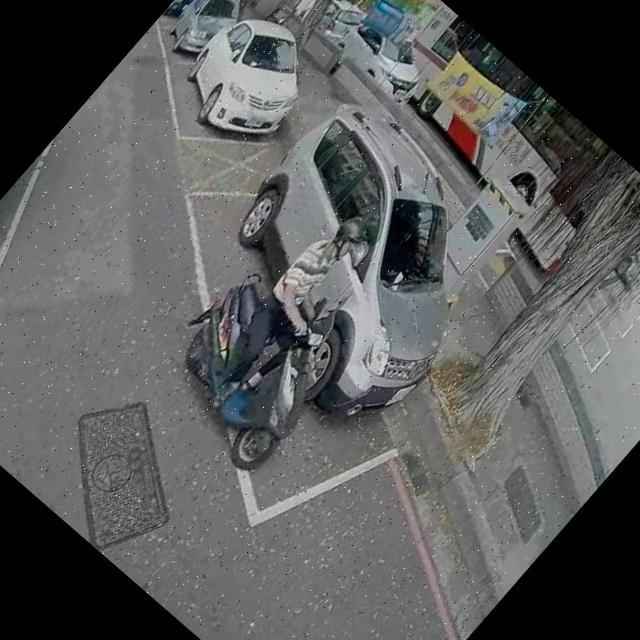person: (178, 190, 410, 441)
